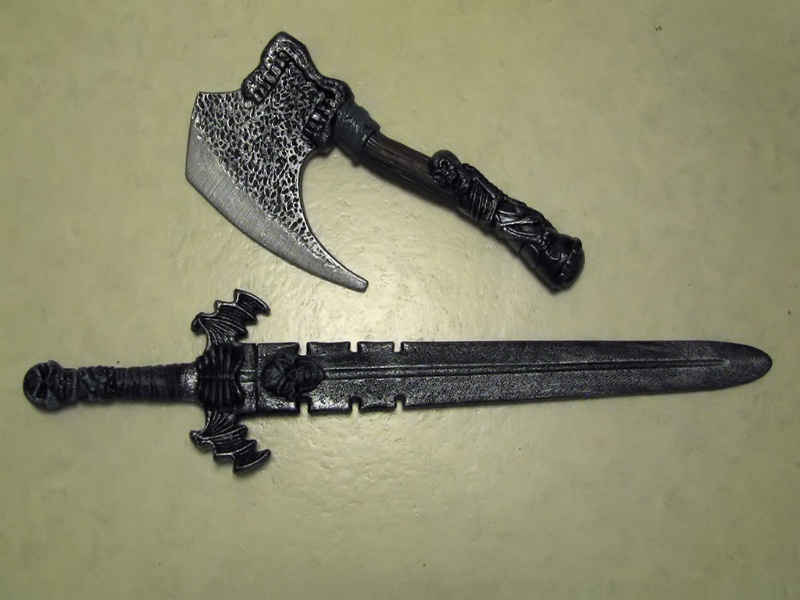axe: (170, 28, 436, 296)
